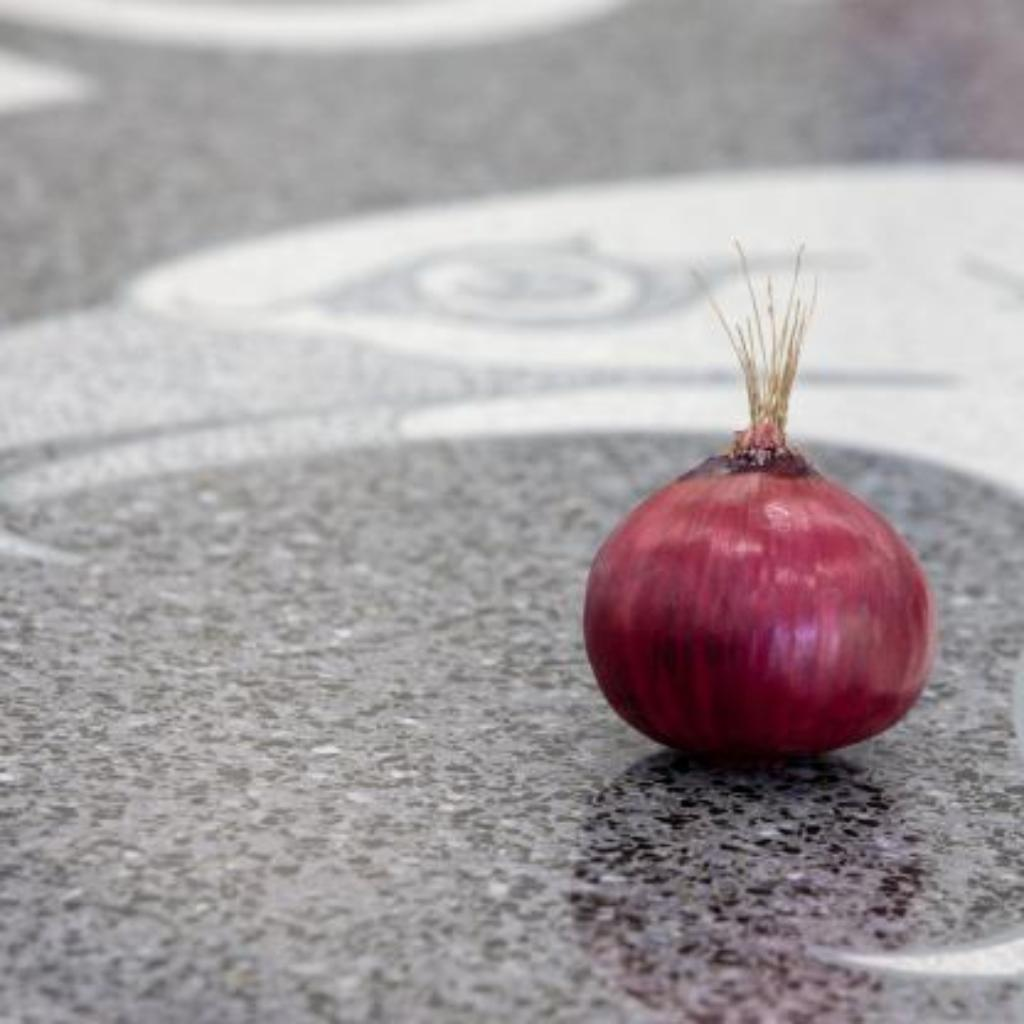Onion: (586, 458, 935, 758)
